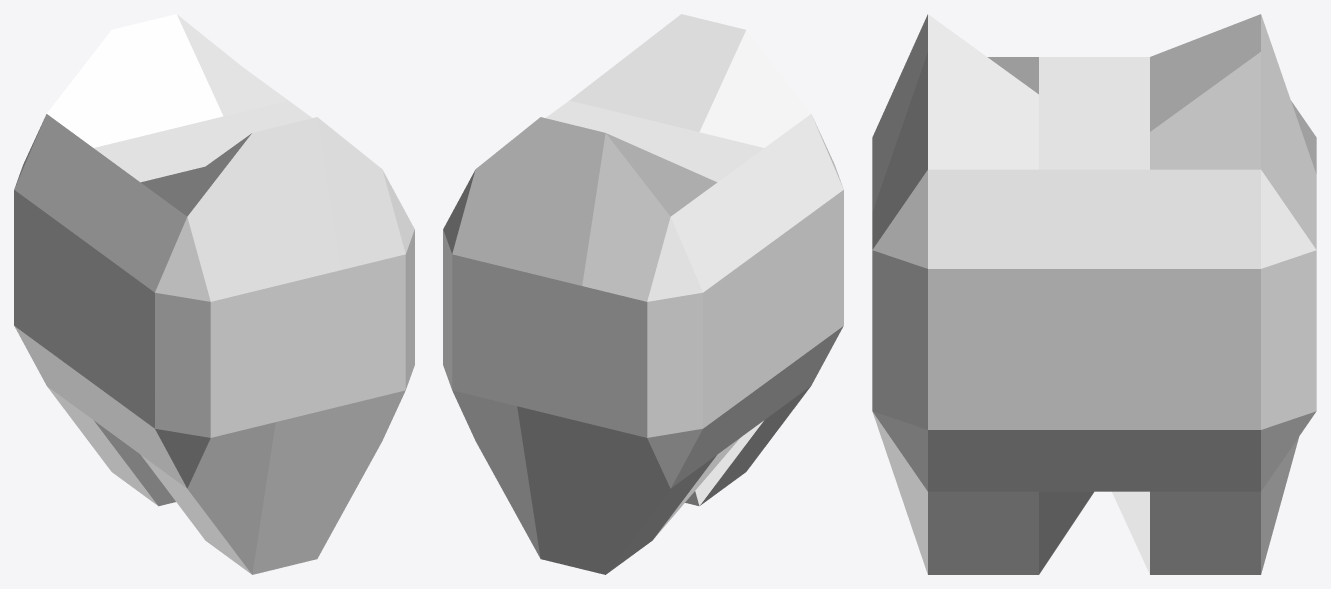
The picture shows the model from 3 angles, left to right: view 1: azimuth 30°, elevation 25°; view 2: azimuth 150°, elevation 25°; view 3: azimuth 270°, elevation 25°; orthographic projection. The views are drawn at different scales.
Visible parts, largest first — view 1: beveled_cuboid; view 2: beveled_cuboid; view 3: beveled_cuboid.
Boxes of the visible parts, x1,y1,x2,y2 form: beveled_cuboid: (14,14,414,574); beveled_cuboid: (443,14,843,574); beveled_cuboid: (872,14,1316,574).
Size of the model in its own units: 0.5 by 0.8125 by 0.625.
Materials: 1 (1 with a texture image).
